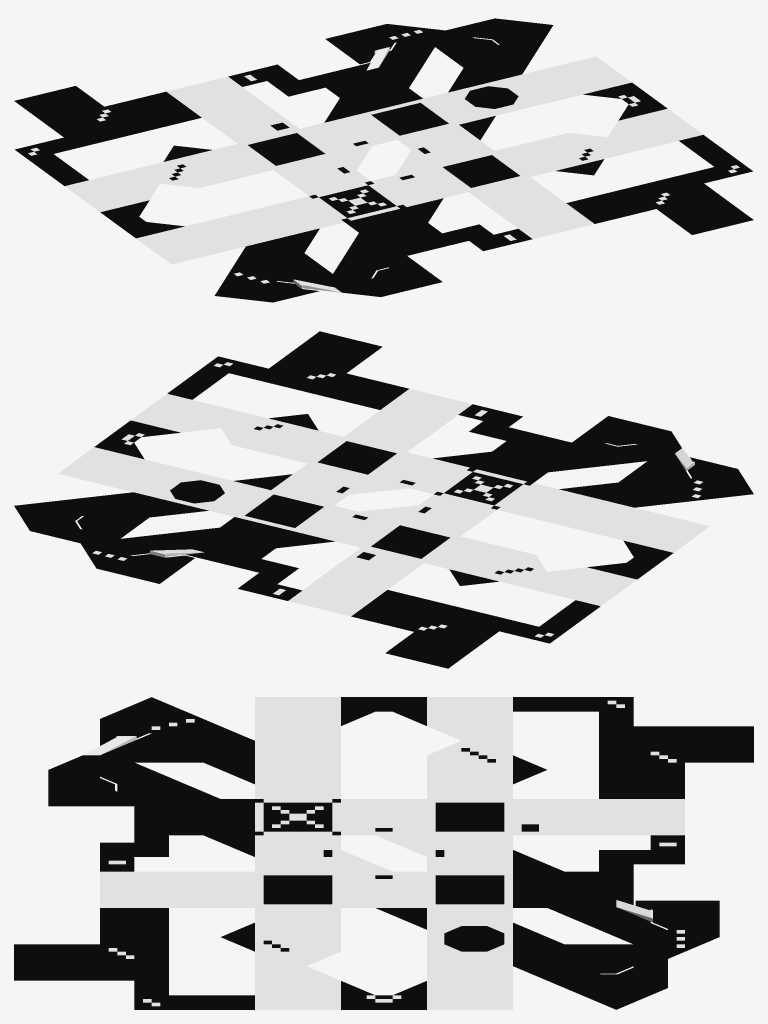
The model's file is Minimap.obj.
3 views of the same model, one above another, from view 1: azimuth 30°, elevation 25°; view 2: azimuth 150°, elevation 25°; view 3: azimuth 270°, elevation 25° (orthographic). The views are drawn at different scales.
Parts seen in each view (by area): view 1: Minimap2-SKP--Black, Minimap2-SKP--White; view 2: Minimap2-SKP--Black, Minimap2-SKP--White; view 3: Minimap2-SKP--Black, Minimap2-SKP--White.
Part boxes in pixels (x1=…): Minimap2-SKP--Black: x1=14, y1=18, x2=753, y2=302; Minimap2-SKP--White: x1=28, y1=30, x2=739, y2=292; Minimap2-SKP--Black: x1=14, y1=331, x2=753, y2=668; Minimap2-SKP--White: x1=58, y1=362, x2=709, y2=637; Minimap2-SKP--Black: x1=14, y1=697, x2=753, y2=1009; Minimap2-SKP--White: x1=83, y1=697, x2=684, y2=1009.
Size of the model in its own units: 33024 by 1296 by 33024.
Materials: 3 (2 with a texture image).
